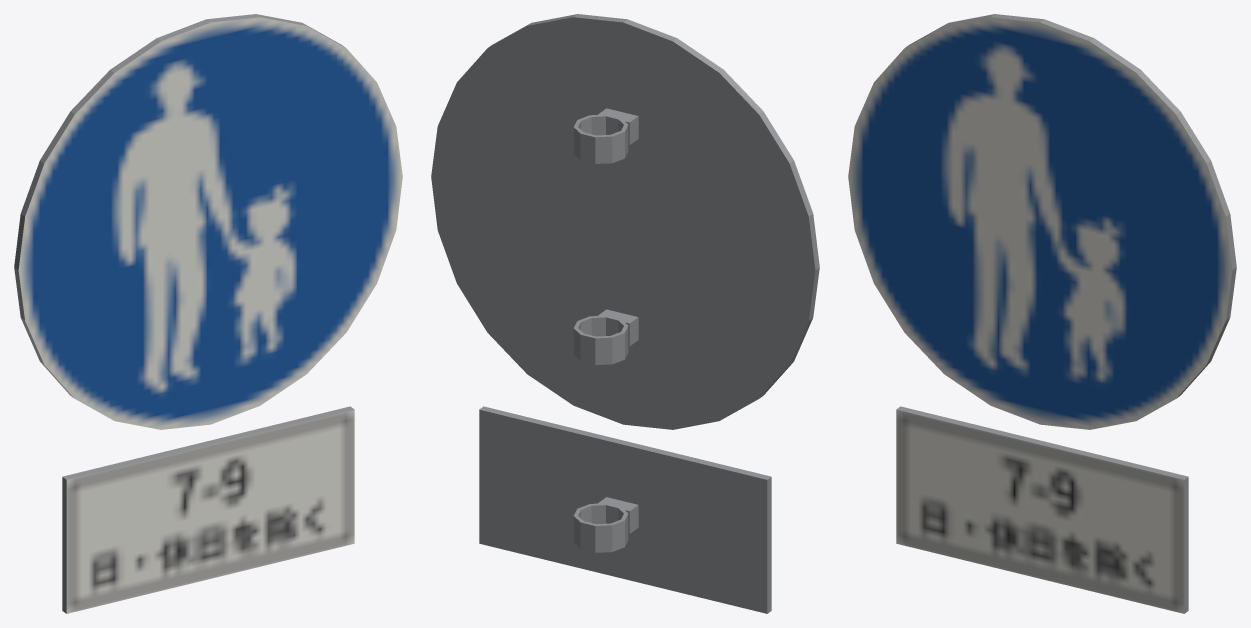
File: SM_Street_Sign_Pedestrian_01.fbx
The picture shows the model from 3 angles, left to right: view 1: azimuth 30°, elevation 25°; view 2: azimuth 150°, elevation 25°; view 3: azimuth 330°, elevation 25°; orthographic projection.
Parts seen in each view (by area): view 1: SM_Street_Sign_Pedestrian_01; view 2: SM_Street_Sign_Pedestrian_01; view 3: SM_Street_Sign_Pedestrian_01.
Boxes of the visible parts, bbox=[...] form: SM_Street_Sign_Pedestrian_01: bbox=[14, 14, 402, 613]; SM_Street_Sign_Pedestrian_01: bbox=[431, 14, 819, 613]; SM_Street_Sign_Pedestrian_01: bbox=[848, 14, 1236, 613].
Bounding box in the file's own units: 0.6 × 0.83 × 0.1074.
1 material, 1 textured.
